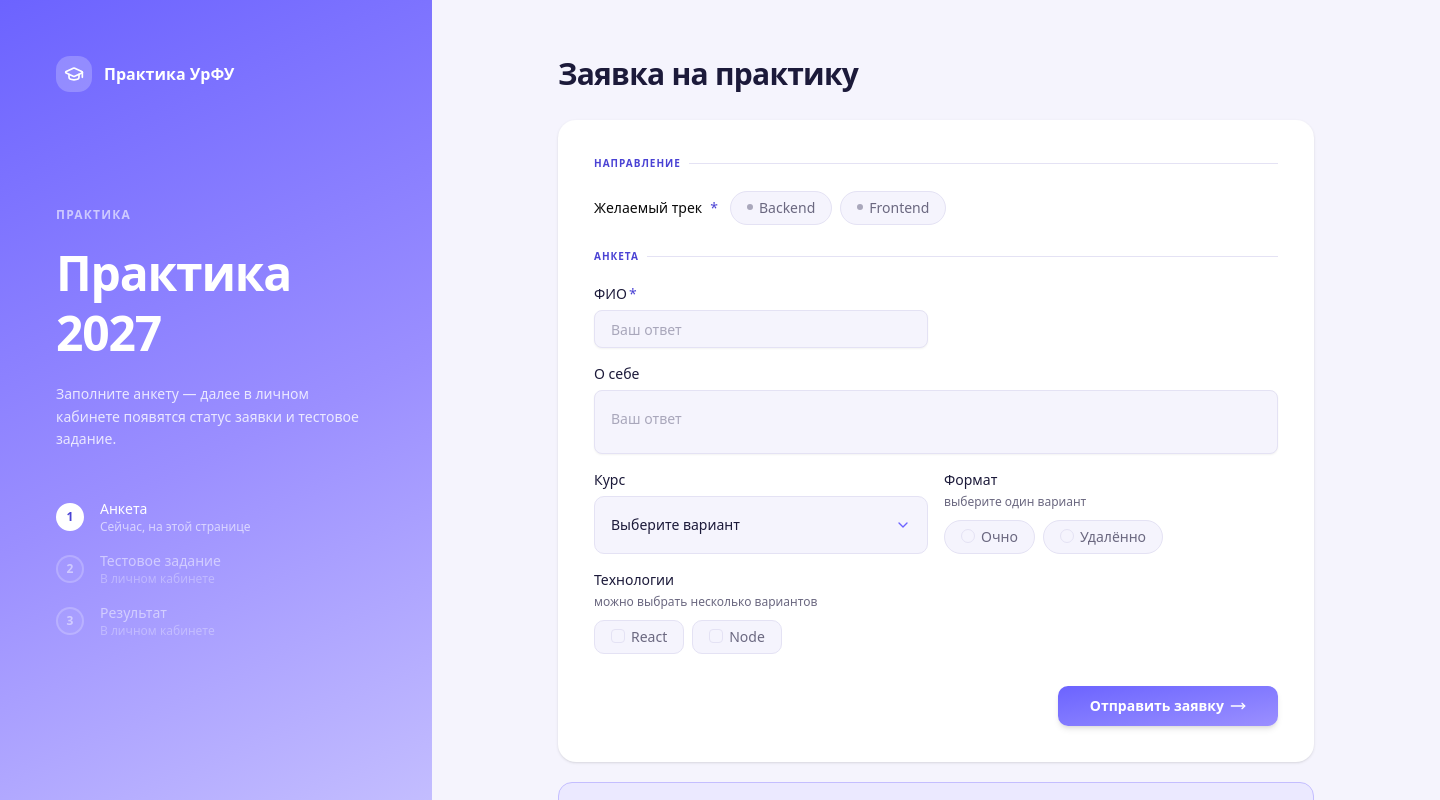
Scenario: ApplyByInvitationPage › требует заполнить обязательное поле анкеты
This screenshot has width=1440, height=800.
Check: the heading "Заявка на практику" is shown, box top-left (558, 53), bottom-right (858, 94)
Click the button "Backend" at (781, 208), box top-left (730, 191), bottom-right (832, 225)
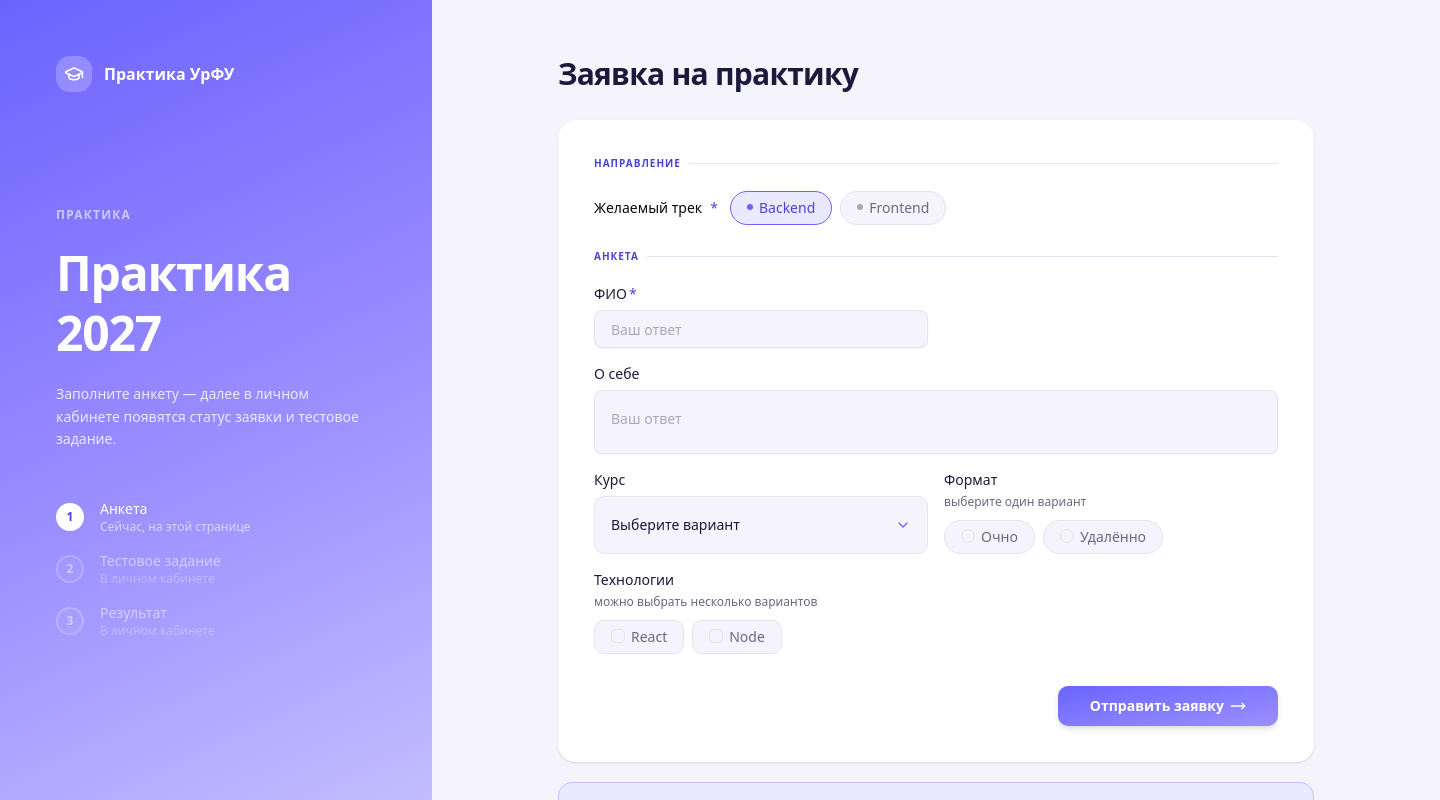
Submit the form, box top-left (594, 156), bottom-right (1278, 726)
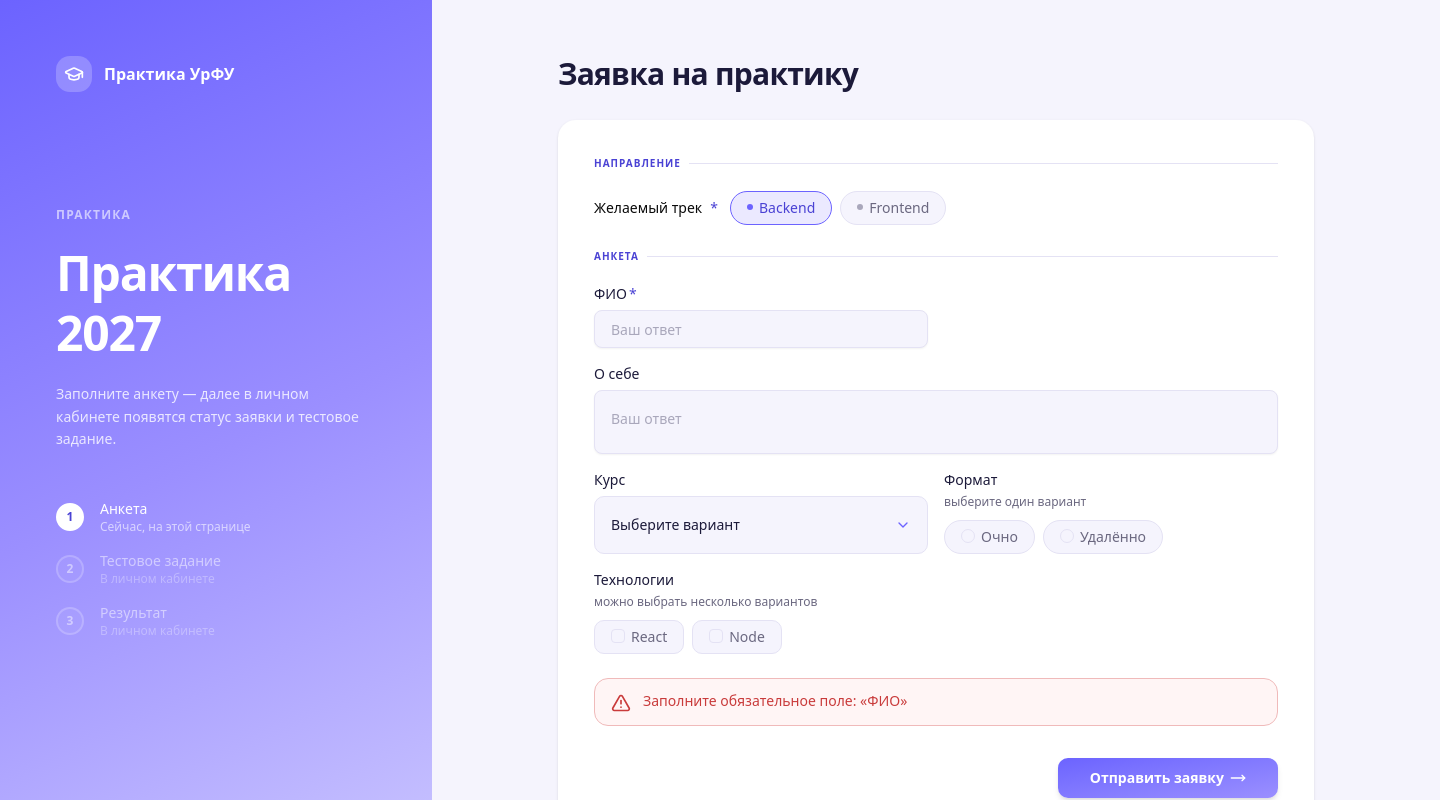
Check: the text "Заполните обязательное поле: «ФИО»" is shown, box top-left (643, 691), bottom-right (907, 711)
